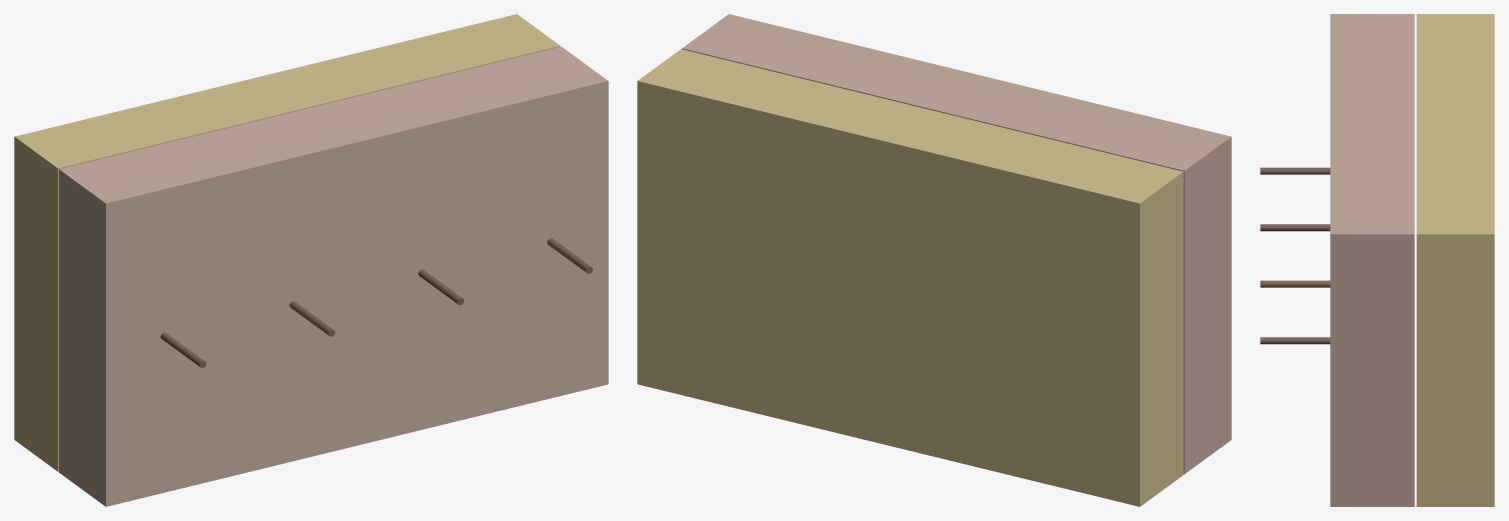
The model's file is skin-g3-low.glb.
3 views of the same model, side by side, from view 1: azimuth 30°, elevation 25°; view 2: azimuth 150°, elevation 25°; view 3: azimuth 270°, elevation 25° (orthographic). The views are drawn at different scales.
Parts seen in each view (by area): view 1: epidermis, hypodermis, dermis, hair_cluster; view 2: hypodermis, dermis, epidermis; view 3: hypodermis, dermis, epidermis, hair_cluster, hair_1.
Boxes of the visible parts, x1,y1,x2,y2 form: epidermis: (93,72,608,506); hypodermis: (14,14,560,471); dermis: (59,46,595,497); hair_cluster: (289,238,592,336); hypodermis: (637,49,1183,506); dermis: (682,23,1219,474); epidermis: (717,14,1231,448); hypodermis: (1416,14,1494,506); dermis: (1352,14,1414,506); epidermis: (1330,14,1352,506); hair_cluster: (1260,224,1330,344); hair_1: (1260,167,1330,174).
Bounding box in the file's own units: 5.2 × 3 × 2.34.
